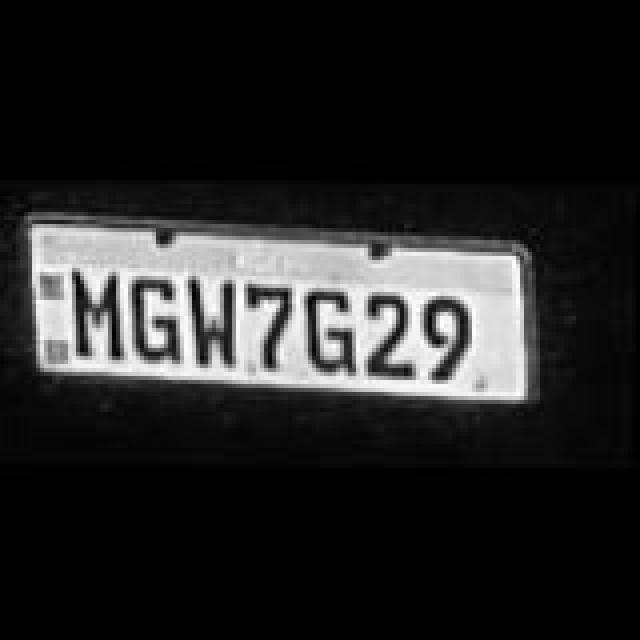2: (360, 290, 432, 378)
7: (240, 282, 312, 370)
9: (414, 290, 482, 378)
G: (294, 286, 370, 374), (120, 272, 192, 360)
M: (58, 266, 142, 358)
W: (180, 276, 252, 368)
